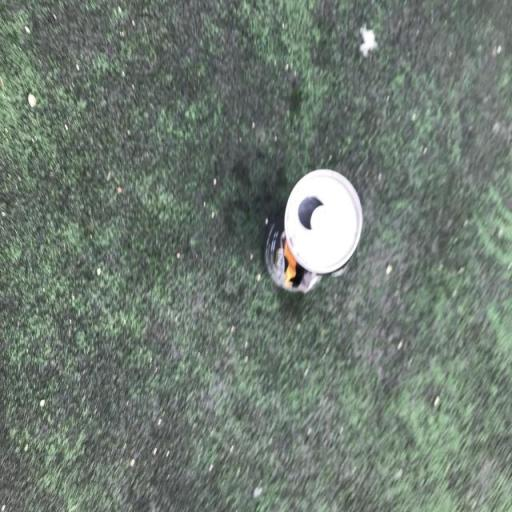metal: (252, 148, 378, 326)
